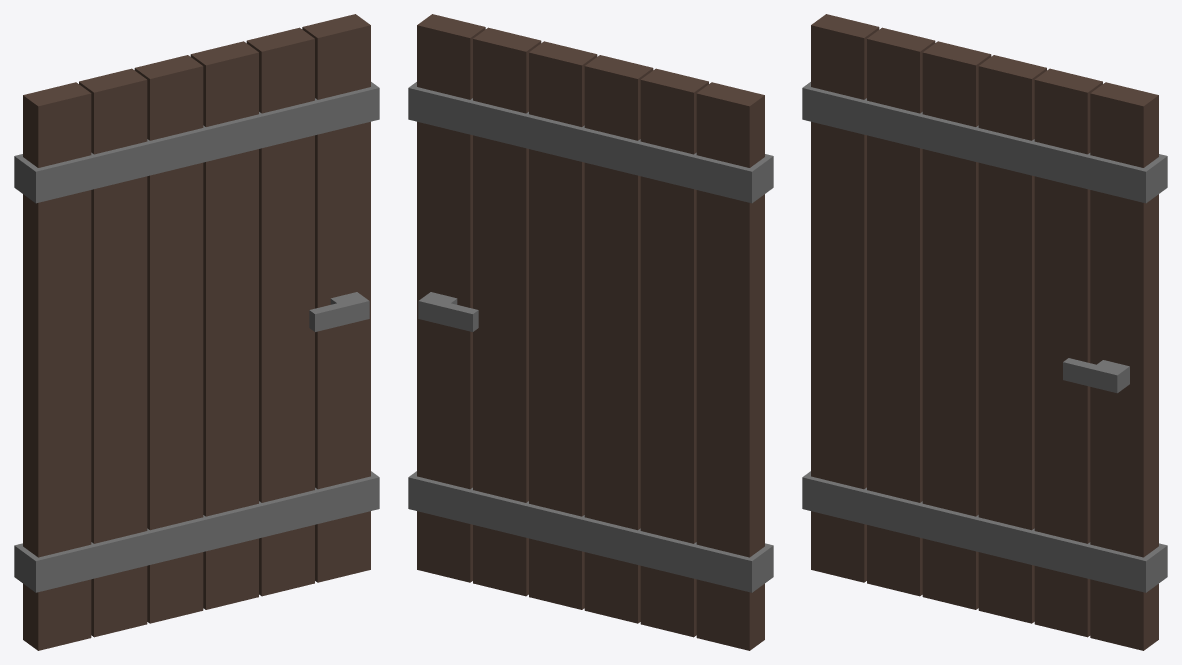
Rendered from doors.fbx.
3 views of the same model, side by side, from view 1: azimuth 30°, elevation 25°; view 2: azimuth 150°, elevation 25°; view 3: azimuth 330°, elevation 25° (orthographic).
Parts seen in each view (by area): view 1: Cube; view 2: Cube; view 3: Cube.
Boxes of the visible parts, x1=… form: Cube: x1=14, y1=14, x2=379, y2=650; Cube: x1=408, y1=14, x2=773, y2=650; Cube: x1=802, y1=14, x2=1167, y2=650.
Size of the model in its own units: 190 by 288 by 38.46.
